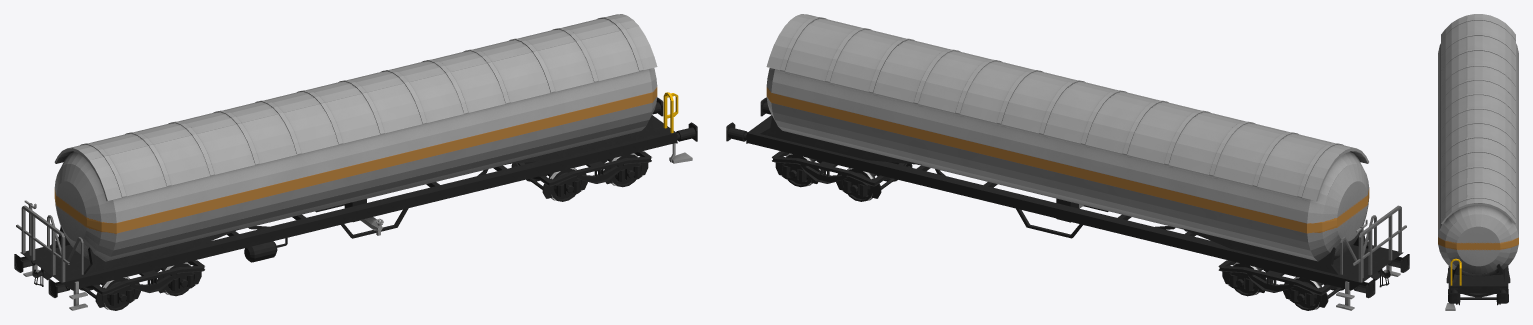
The model's file is zags120.obj.
3 views of the same model, side by side, from view 1: azimuth 30°, elevation 25°; view 2: azimuth 150°, elevation 25°; view 3: azimuth 270°, elevation 25° (orthographic). The views are drawn at different scales.
Parts seen in each view (by area): view 1: FRAME_Cylinder.002, BOGEY_REAR_Cube.004, BOGEY_FRONT_Cube.001; view 2: FRAME_Cylinder.002, BOGEY_REAR_Cube.004, BOGEY_FRONT_Cube.001; view 3: FRAME_Cylinder.002, BOGEY_REAR_Cube.004.
Boxes of the visible parts, x1,y1,x2,y2 form: FRAME_Cylinder.002: [14, 14, 697, 310]; BOGEY_REAR_Cube.004: [511, 151, 651, 198]; BOGEY_FRONT_Cube.001: [81, 260, 204, 307]; FRAME_Cylinder.002: [726, 14, 1409, 310]; BOGEY_REAR_Cube.004: [772, 151, 912, 198]; BOGEY_FRONT_Cube.001: [1218, 260, 1342, 307]; FRAME_Cylinder.002: [1438, 14, 1518, 310]; BOGEY_REAR_Cube.004: [1446, 266, 1510, 304].
Bounding box in the file's own units: 19.24 × 4.39 × 2.96.
